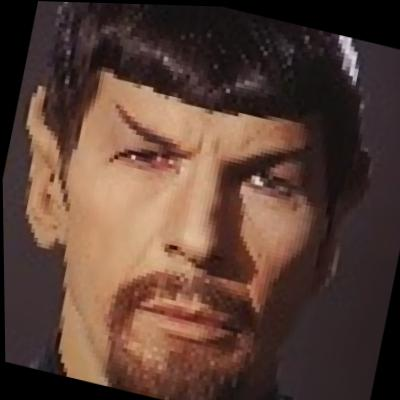angry: (28, 16, 368, 400)
